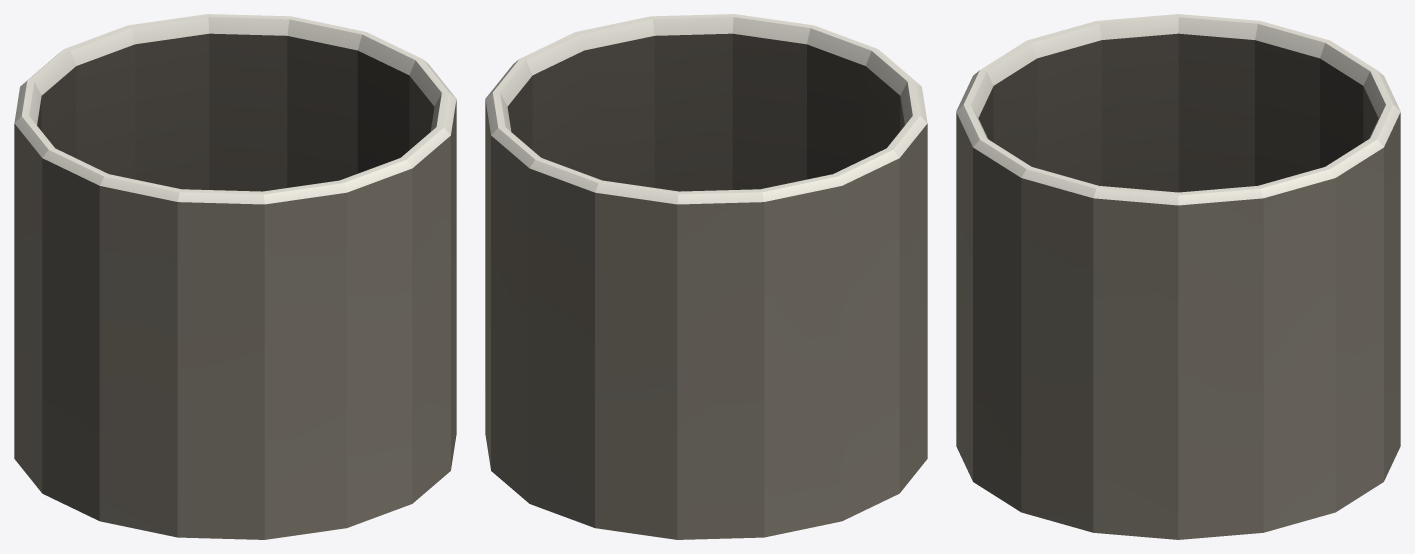
Rendered from cup.glb.
The picture shows the model from 3 angles, left to right: view 1: azimuth 30°, elevation 25°; view 2: azimuth 150°, elevation 25°; view 3: azimuth 270°, elevation 25°; orthographic projection.
Parts seen in each view (by area): view 1: Liner; view 2: Liner; view 3: Liner.
Boxes of the visible parts, left/top/right/bottom form: Liner: left=14, top=14, right=456, bottom=539; Liner: left=485, top=14, right=927, bottom=539; Liner: left=956, top=14, right=1400, bottom=539.
Bounding box in the file's own units: 0.12 × 0.1016 × 0.12.
1 material, 1 textured.
